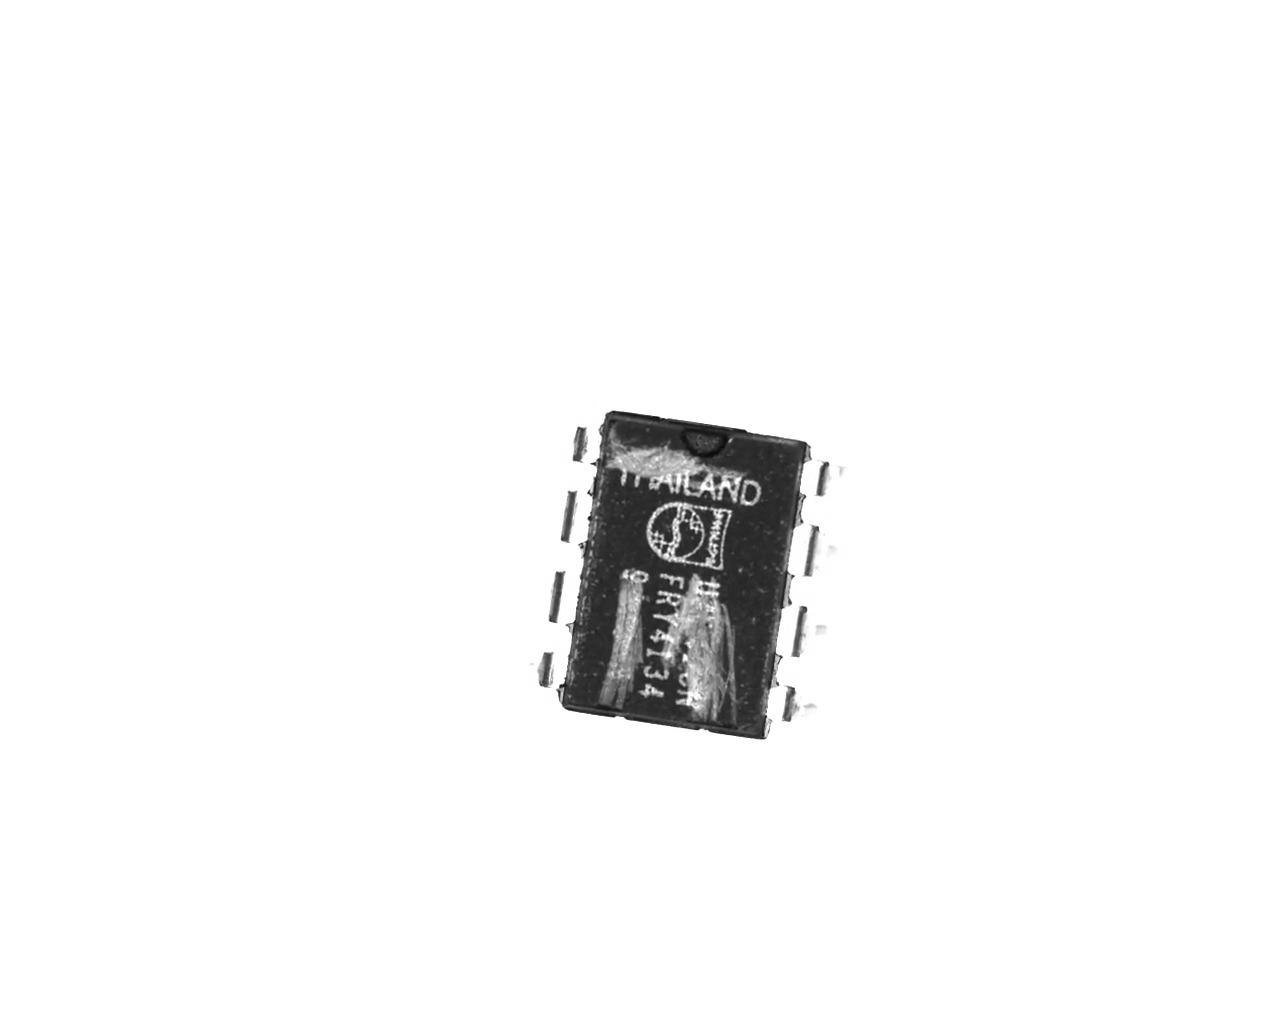Leg: (775, 600, 843, 660), (795, 518, 846, 588), (542, 564, 591, 634), (558, 487, 606, 553), (800, 446, 856, 502), (565, 417, 619, 470), (769, 681, 819, 737), (529, 646, 576, 693)
